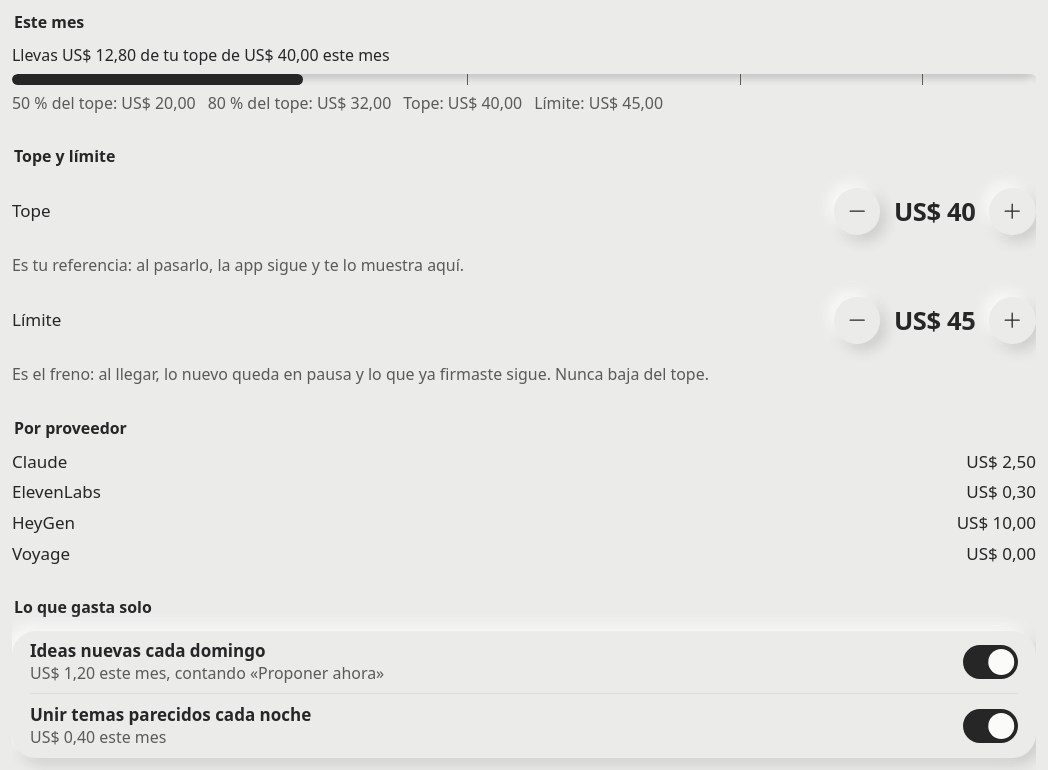
it: PantallaDePresupuesto › brings the limit back to twice the cap on screen when the cap goes above the limit she set
Click the button named "Subir el tope".
click(1013, 212)  # box [989,188,1036,235]
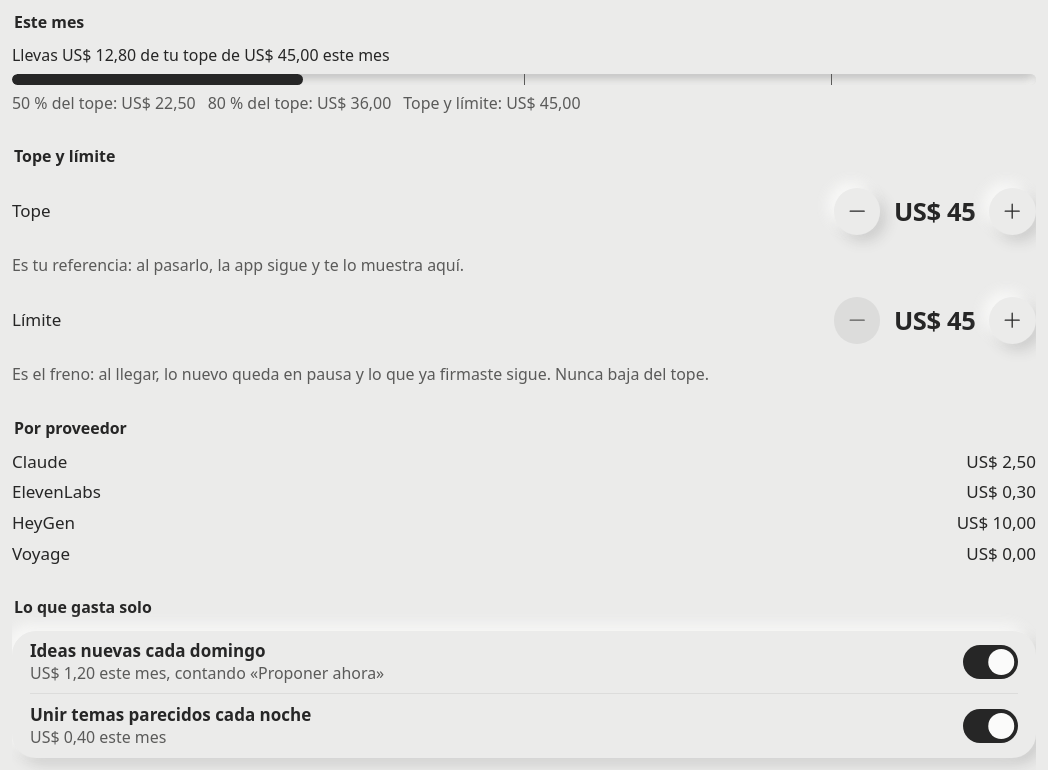
Click the button named "Subir el tope".
click(1013, 212)  # box [989,188,1036,235]
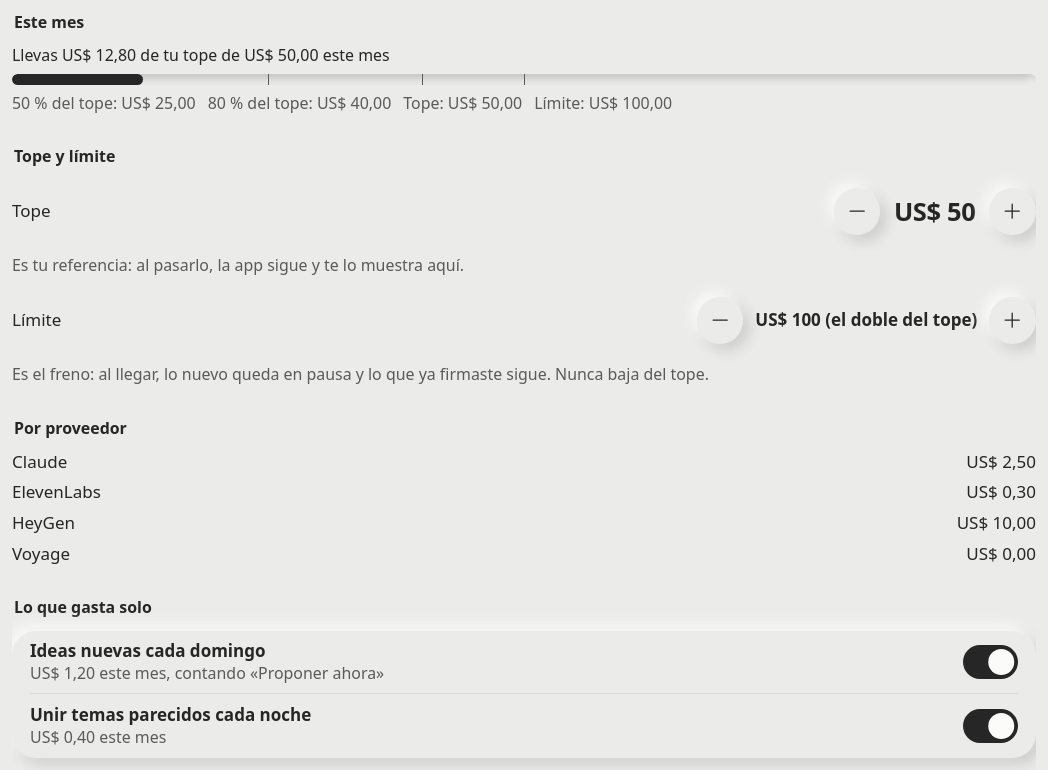
Now the text "US$ 100 (el doble del tope)" is shown, box [755,309,977,332]
